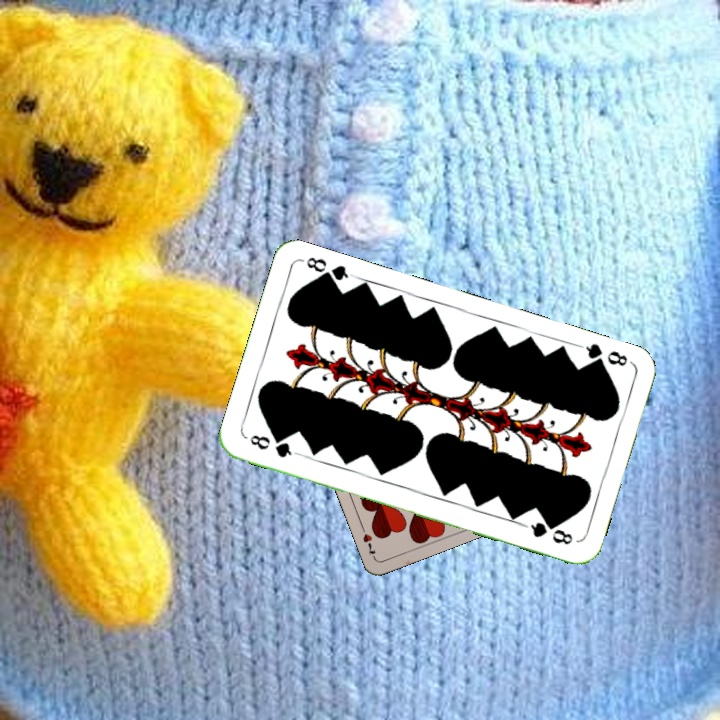G8: (575, 339, 633, 372), (245, 430, 300, 460)
